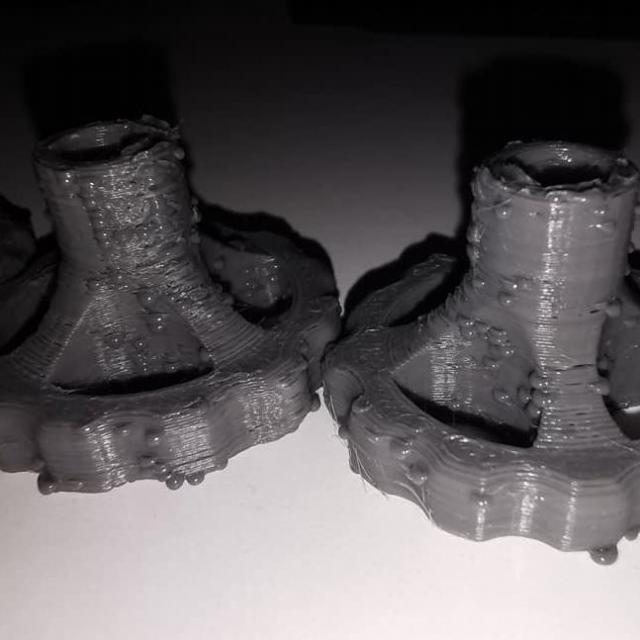blobs: (586, 371, 614, 401), (588, 542, 622, 566), (403, 466, 429, 494), (598, 296, 624, 322), (464, 488, 492, 511), (524, 366, 548, 392), (495, 289, 521, 313), (145, 308, 169, 334), (78, 172, 101, 195), (468, 274, 492, 296), (490, 386, 514, 408), (489, 198, 511, 220), (464, 226, 486, 248), (524, 398, 544, 422), (450, 314, 476, 332), (84, 276, 105, 298), (105, 330, 128, 350), (136, 291, 158, 311), (163, 472, 185, 492), (112, 424, 136, 442), (471, 320, 491, 340), (145, 430, 165, 450), (504, 276, 524, 295), (494, 342, 517, 358), (38, 477, 58, 495), (184, 471, 206, 486), (138, 452, 156, 470), (92, 226, 112, 242), (167, 148, 189, 162), (27, 456, 46, 472), (82, 194, 97, 214), (128, 337, 148, 352), (89, 212, 105, 230), (152, 465, 170, 479)
